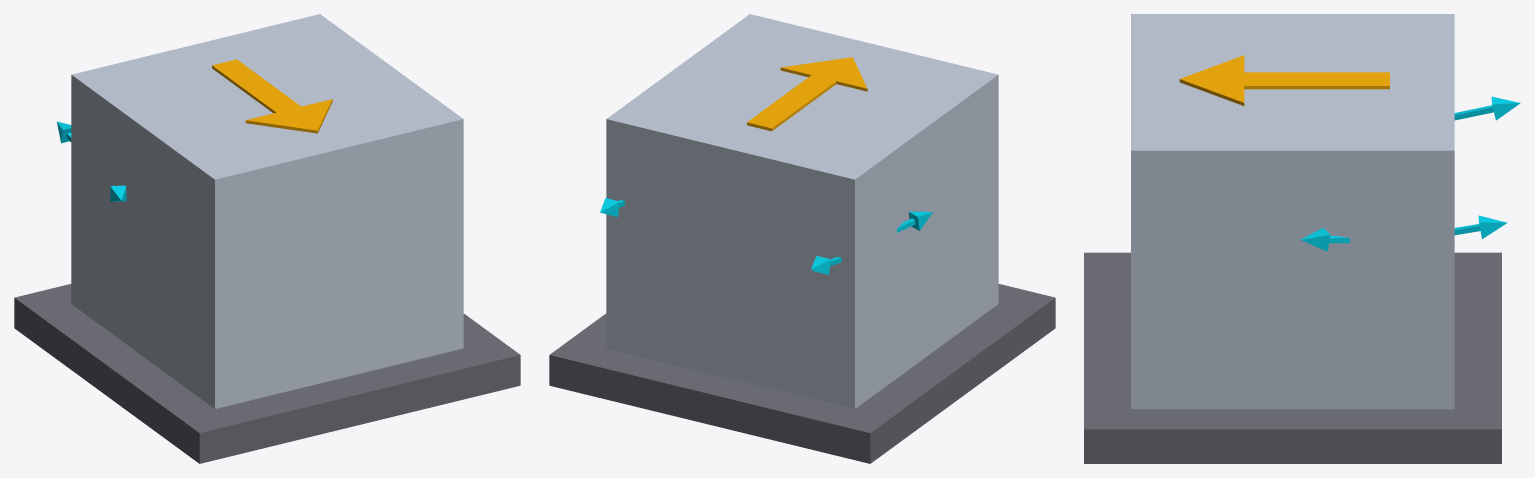
3 renders of one model, left to right at view 1: azimuth 30°, elevation 25°; view 2: azimuth 150°, elevation 25°; view 3: azimuth 270°, elevation 25°, orthographic. The views are drawn at different scales.
Parts seen in each view (by area): view 1: frame, bumpers, front; view 2: frame, bumpers, front; view 3: frame, bumpers, front, camera back-right, camera back-left, camera front-left.
Boxes of the visible parts, x1,y1,x2,y2 form: frame: (71, 14, 463, 408); bumpers: (14, 284, 520, 463); front: (212, 59, 332, 133); frame: (606, 14, 998, 408); bumpers: (549, 284, 1055, 463); front: (747, 57, 867, 131); frame: (1131, 14, 1454, 409); bumpers: (1084, 252, 1501, 463); front: (1179, 55, 1389, 105); camera back-right: (1454, 96, 1520, 120); camera back-left: (1454, 215, 1507, 238); camera front-left: (1300, 228, 1349, 251).
Size of the model in its own units: 0.9017 by 0.7065 by 0.9429.
